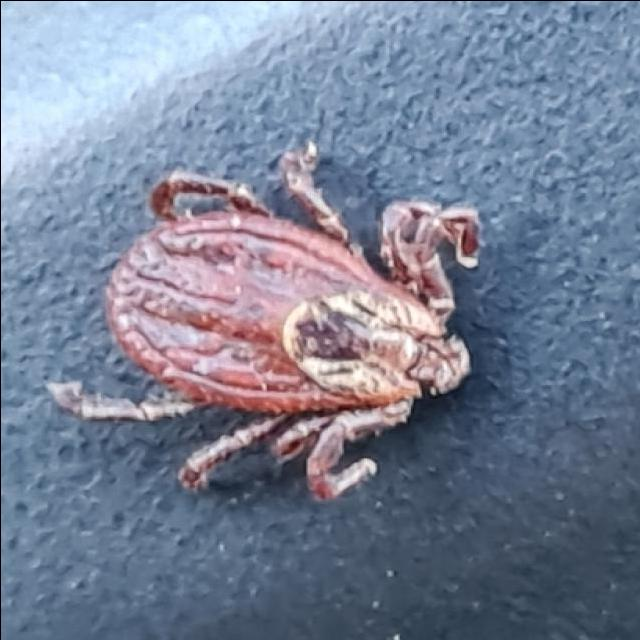Dermacentor Reticulatus-F: (45, 143, 477, 502)
